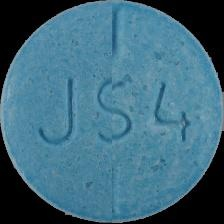60846-808: (0, 0, 224, 224)
